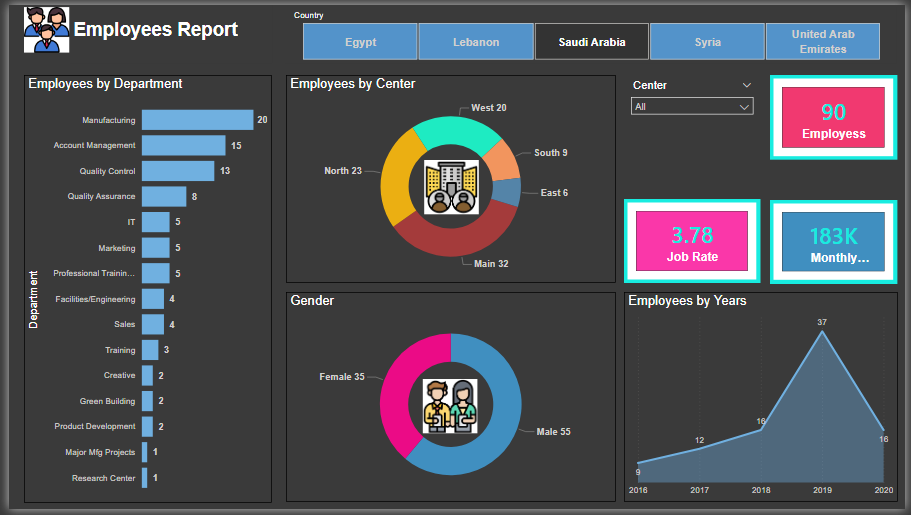

The page's visual inventory and layout, read from the dashboard file:
{"tool":"powerbi","page":{"name":"Page 1","canvas":[1280,720],"ordinal":0},"visuals":[{"type":"clusteredBarChart","title":"Employees by Department","fields":{"Category":["EmpTable.Department"],"Y":["CountNonNull(EmpTable.No)"]},"box":[21.6,100,354.1,610.8],"z":0},{"type":"donutChart","title":"Employees by Center","fields":{"Category":["EmpTable.Center"],"Y":["CountNonNull(EmpTable.No)"]},"box":[395,100.5,470.7,297.3],"z":1000},{"type":"donutChart","title":"Gender","fields":{"Category":["EmpTable.Gender"],"Y":["CountNonNull(EmpTable.Gender)"]},"box":[395,410.2,470.7,300],"z":2000},{"type":"areaChart","title":"Employees by Years","fields":{"Category":["EmpTable.Start Date.Variation.Date Hierarchy.Year","EmpTable.Start Date.Variation.Date Hierarchy.Quarter","EmpTable.Start Date.Variation.Date Hierarchy.Month","EmpTable.Start Date.Variation.Date Hierarchy.Day"],"Y":["CountNonNull(EmpTable.No)"]},"box":[878.1,410.2,390.9,300],"z":3000},{"type":"cardVisual","fields":{"Data":["CountNonNull(EmpTable.No)"]},"box":[1087.3,100.5,181.7,121.1],"z":4000},{"type":"cardVisual","fields":{"Data":["Sum(EmpTable.Monthly Salary)"]},"box":[1087.3,278,181.7,119.7],"z":5000},{"type":"cardVisual","fields":{"Data":["Avg(EmpTable.Job Rate)"]},"box":[878.4,277,194.6,120.3],"z":6000},{"type":"slicer","fields":{"Values":["EmpTable.Country"]},"box":[394.6,2.7,874.3,81.1],"z":7000},{"type":"slicer","fields":{"Values":["EmpTable.Center"]},"box":[878.4,101.4,194.6,120.3],"z":8000},{"type":"textbox","box":[86.5,0,289.2,83.8],"z":9000},{"type":"image","box":[21.6,0,64.9,71.6],"z":10000},{"type":"image","box":[586.5,533.8,86.5,78.4],"z":11000},{"type":"image","box":[586.5,221.6,90.5,78.4],"z":12000}]}

Visuals, with their boxes in screenshot pixels (x1, y1, x2, y2), scaled from the page's 1280x720 canvas onto the 911x515 screenshot:
"Employees by Department" clusteredBarChart: crop(15, 72, 267, 508)
"Employees by Center" donutChart: crop(281, 72, 616, 285)
"Gender" donutChart: crop(281, 293, 616, 508)
"Employees by Years" areaChart: crop(625, 293, 903, 508)
cardVisual - CountNonNull(EmpTable.No): crop(774, 72, 903, 159)
cardVisual - Sum(EmpTable.Monthly Salary): crop(774, 199, 903, 284)
cardVisual - Avg(EmpTable.Job Rate): crop(625, 198, 764, 284)
slicer - EmpTable.Country: crop(281, 2, 903, 60)
slicer - EmpTable.Center: crop(625, 73, 764, 159)
textbox: crop(62, 0, 267, 60)
image: crop(15, 0, 62, 51)
image: crop(417, 382, 479, 438)
image: crop(417, 159, 482, 215)
